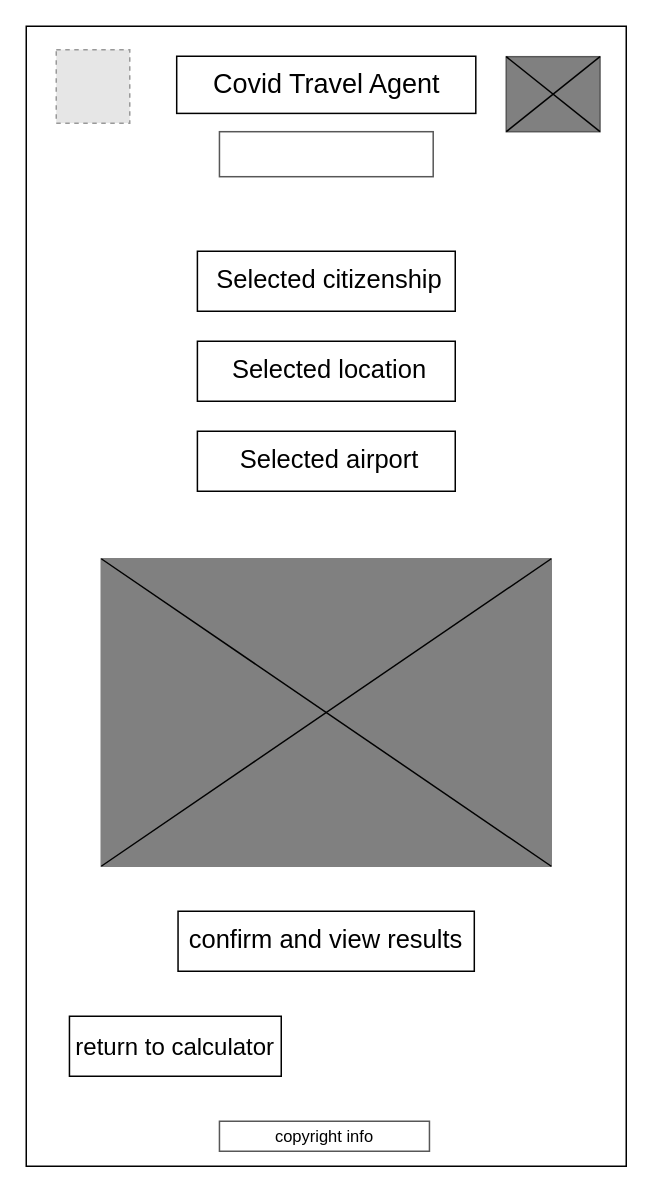
Image size: 653x1193. Some labels were removed from this diagram. Grey dashed boxes stand in for pictures. Here are the shapes that lost their labels. From the top down, the box of each, then its label:
(505, 55, 600, 132): logo
(218, 130, 433, 177): Confirmation
(100, 557, 551, 866): map shows selected location
